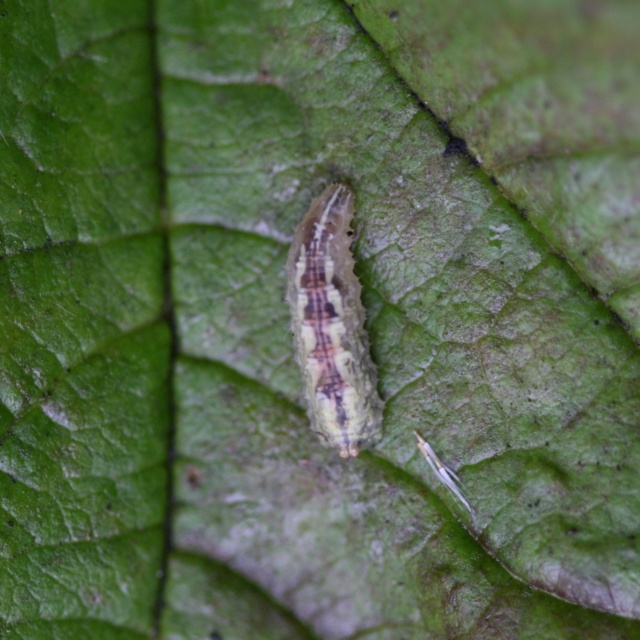Caterpillar: (287, 183, 382, 448)
